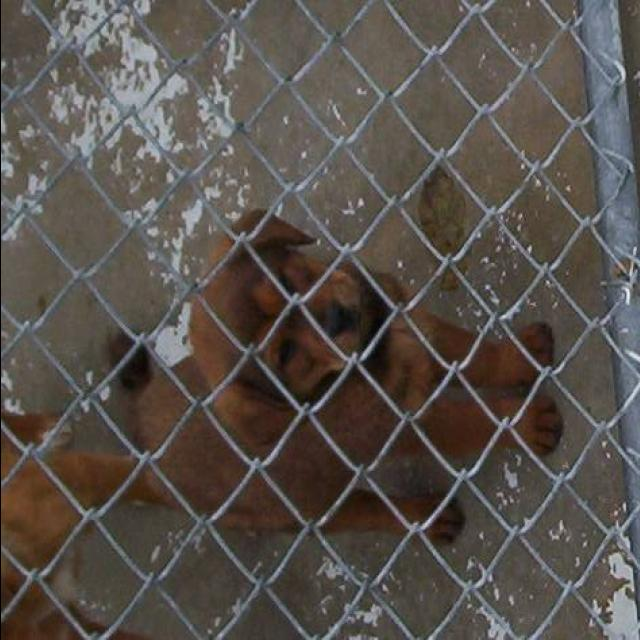dog: (63, 207, 575, 575)
